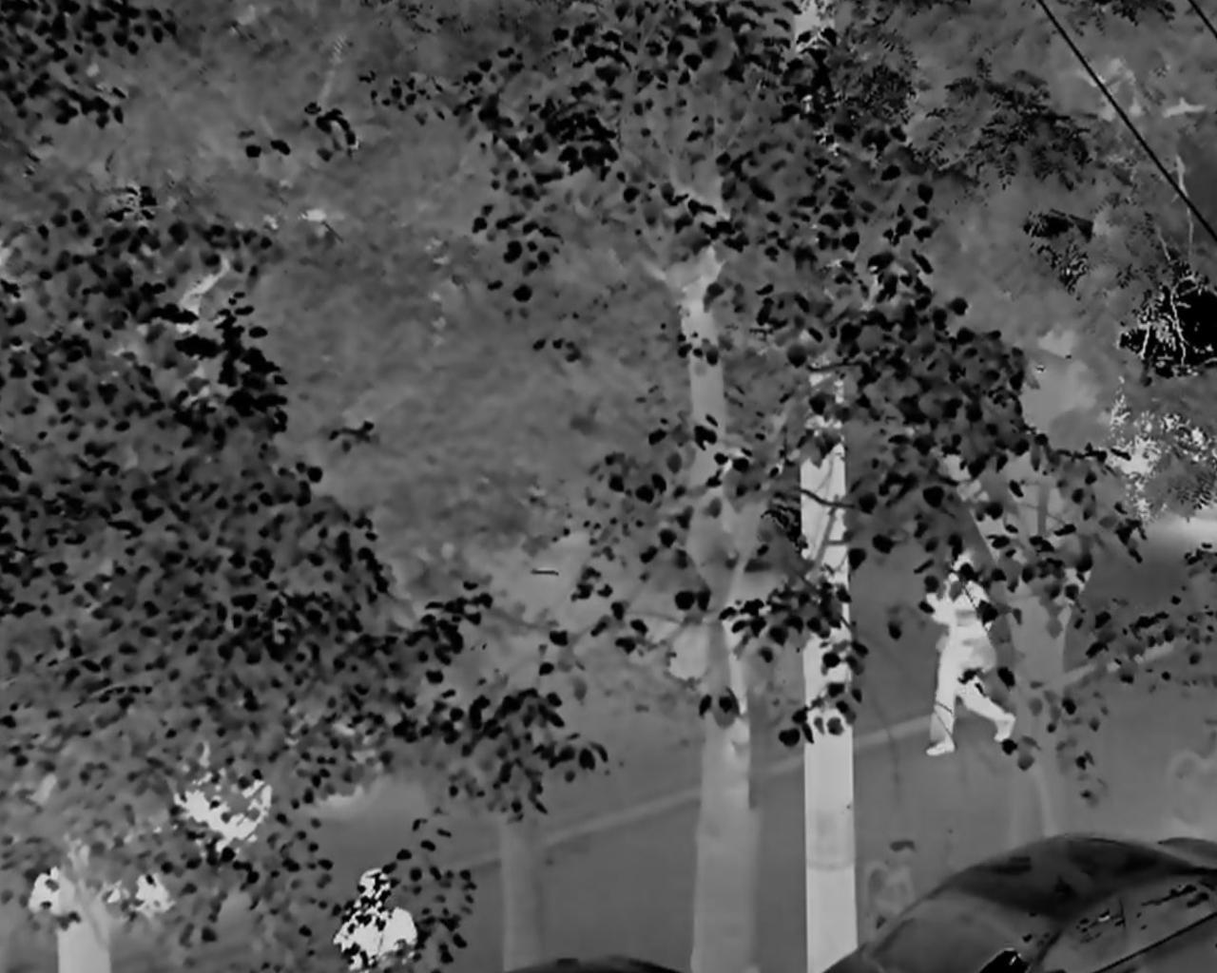person: (928, 543, 1014, 764), (337, 868, 418, 973)
